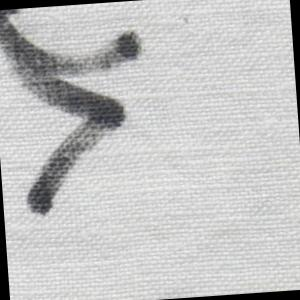Stain: (1, 1, 161, 223)
